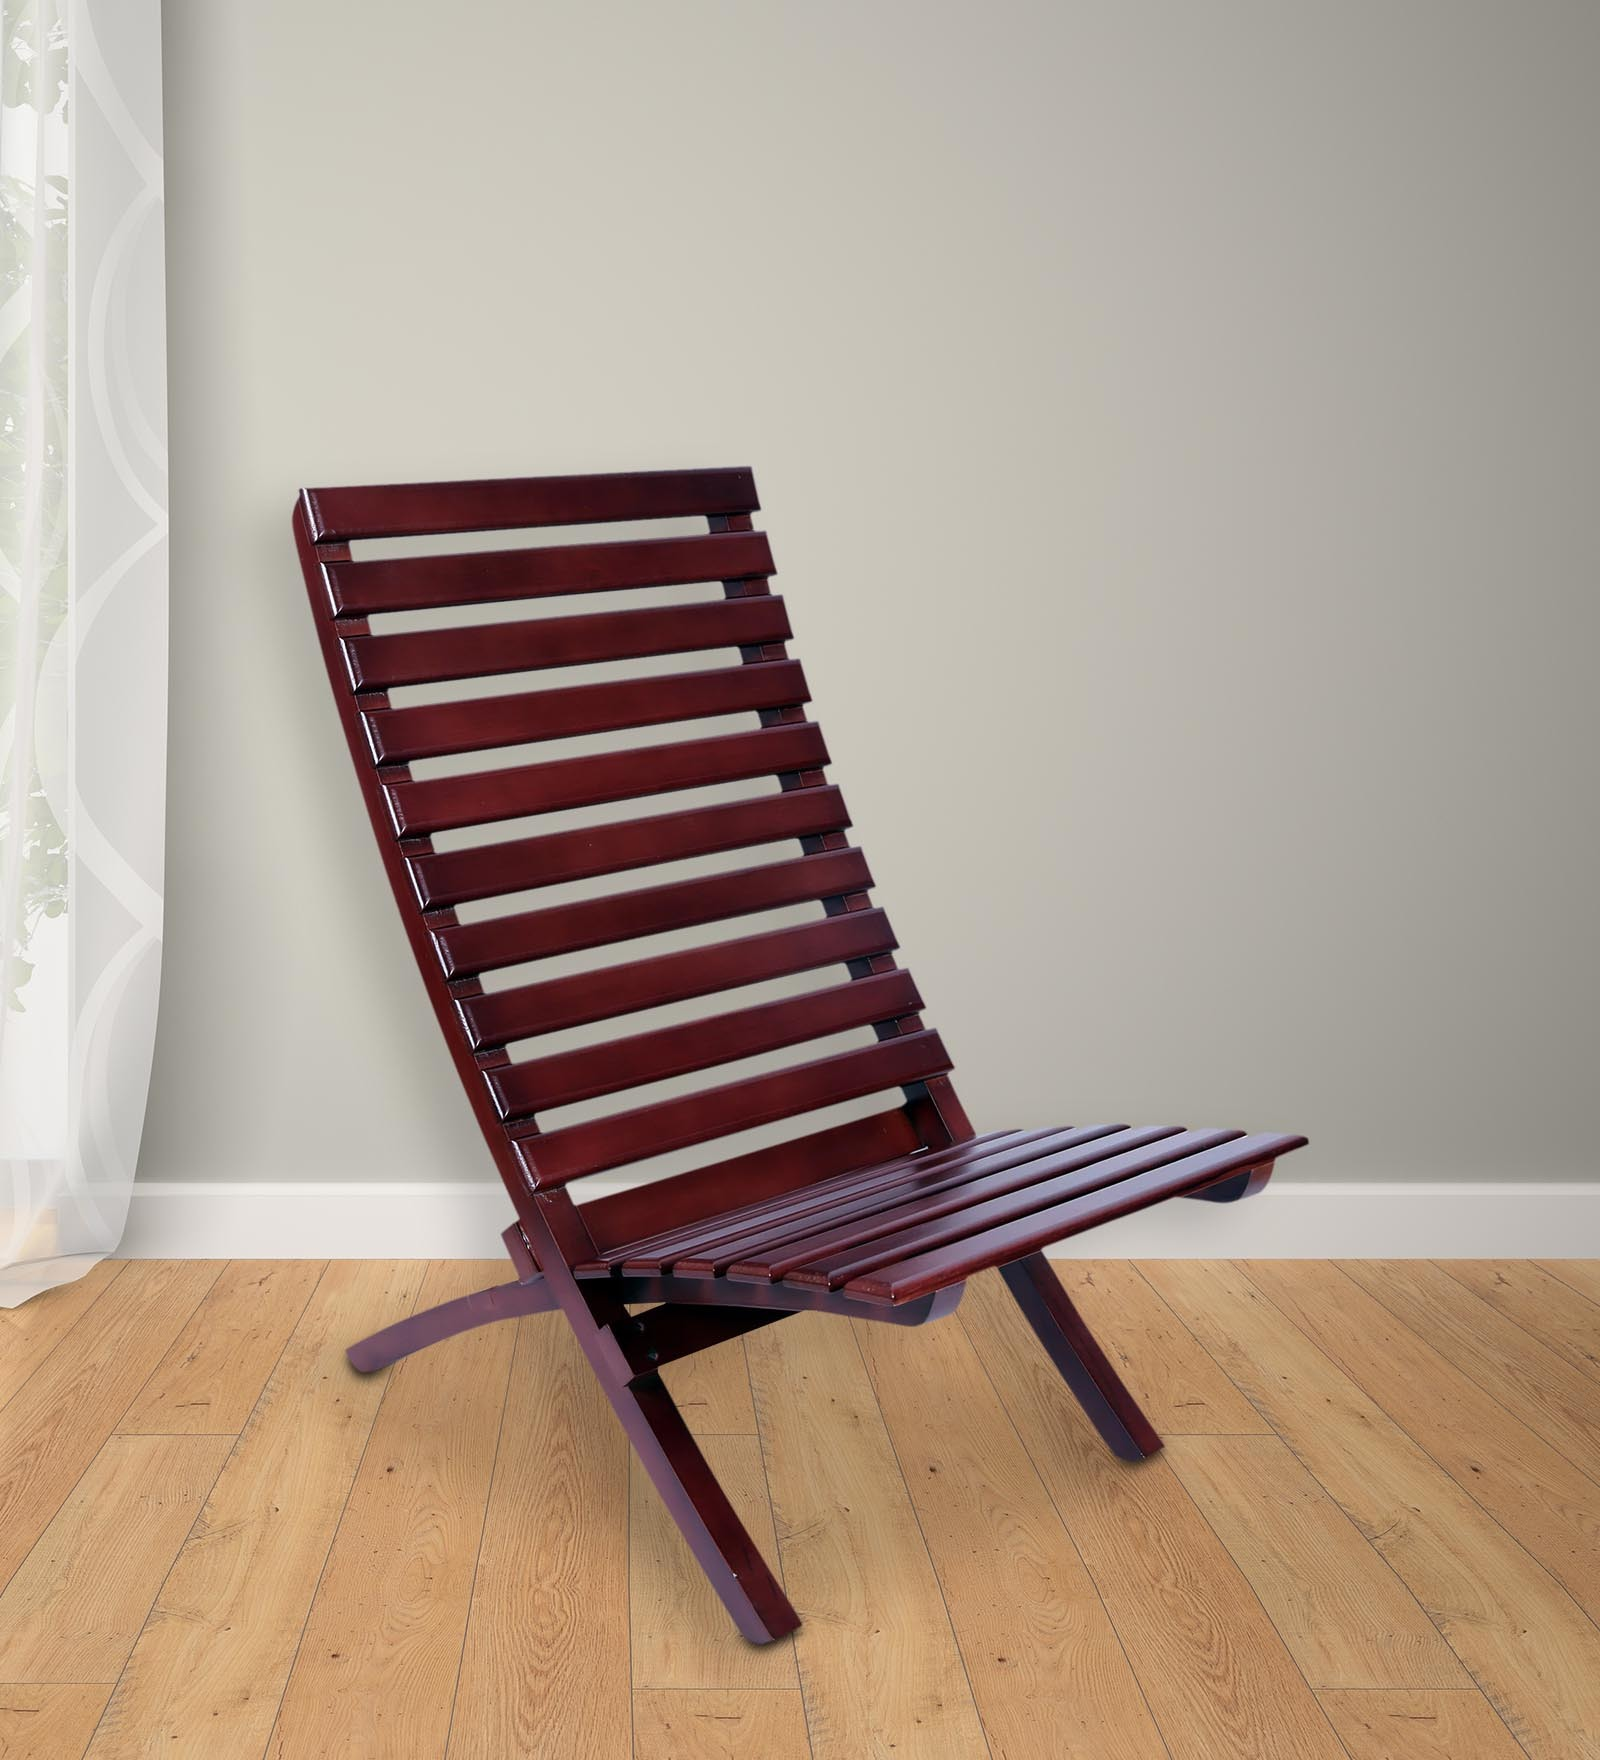Foldable Chair in Brown Colour by ClasiCraft: (267, 438, 1350, 1663)
